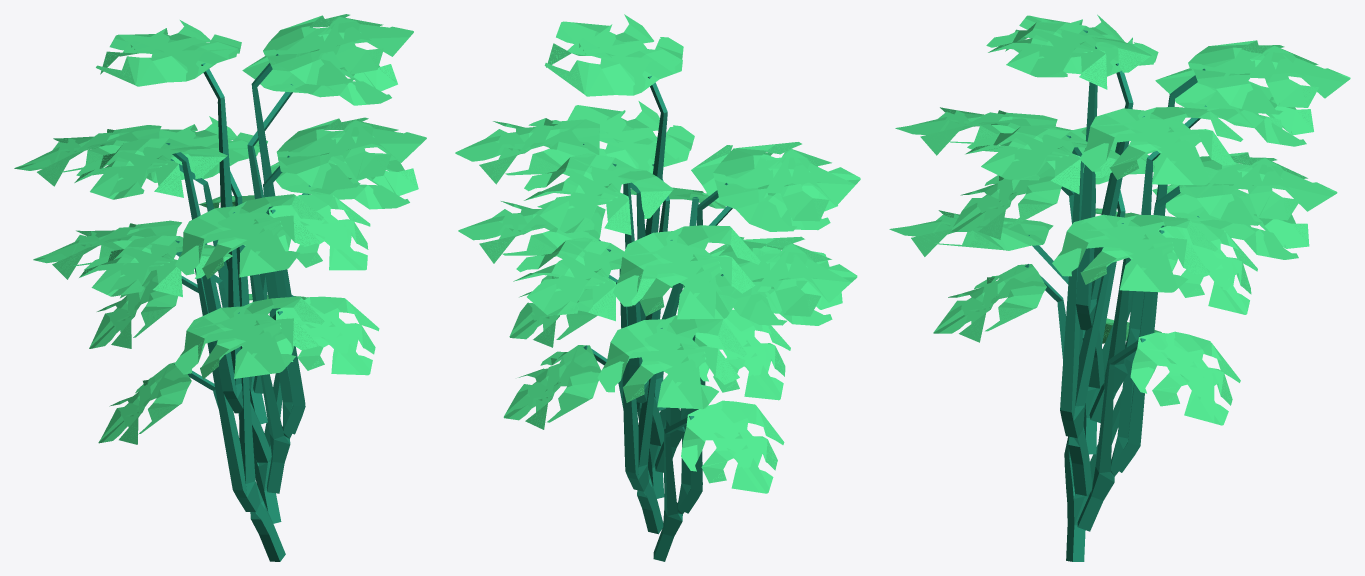
Rendered from plant3.fbx.
The picture shows the model from 3 angles, left to right: view 1: azimuth 30°, elevation 25°; view 2: azimuth 150°, elevation 25°; view 3: azimuth 270°, elevation 25°; orthographic projection. The views are drawn at different scales.
Visible parts, largest first — view 1: Plane; view 2: Plane; view 3: Plane.
Boxes of the visible parts, x1,y1,x2,y2 form: Plane: (14,14,426,561); Plane: (455,14,860,561); Plane: (889,14,1350,561).
Bounding box in the file's own units: 64.58 × 91.99 × 69.14.
